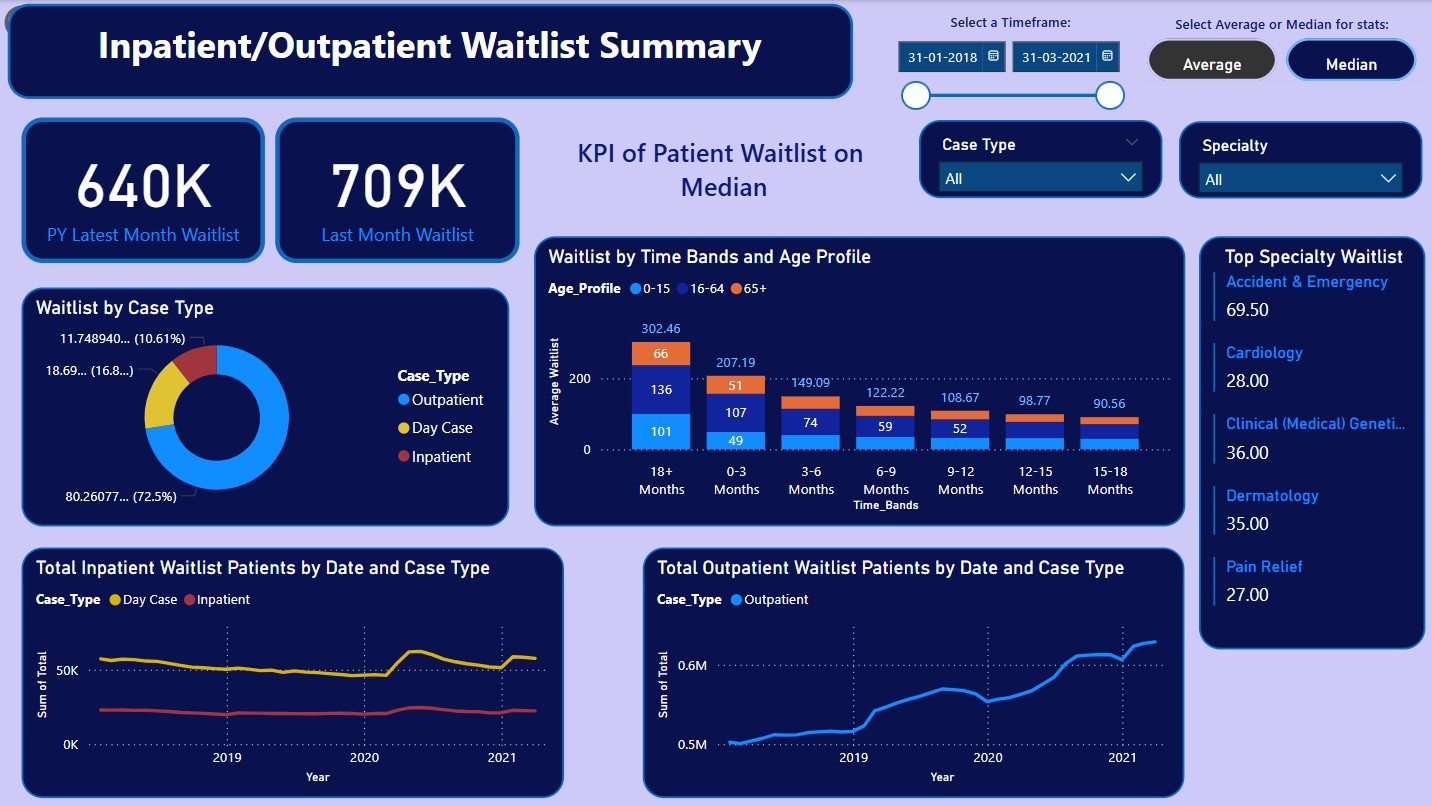

What the dashboard file says about the page in this screenshot:
{"tool":"powerbi","page":{"name":"Inpatient/Outpatient Waitlist Summary","canvas":[1280,720],"ordinal":0},"visuals":[{"type":"actionButton","box":[0,0,100,40],"z":0},{"type":"columnChart","title":"Waitlist by Time Bands and Age Profile","fields":{"Y":["All_Data.Average Waitlist"],"Category":["All_Data.Time_Bands"],"Series":["All_Data.Age_Profile"]},"box":[476.4,210.2,579.7,258.7],"z":1000},{"type":"card","fields":{"Values":["All_Data.Last Month Waitlist"]},"box":[246.3,104.5,217.7,129.4],"z":2000},{"type":"card","fields":{"Values":["All_Data.PY Latest Month Waitlist"]},"box":[19.9,104.5,216.4,129.4],"z":3000},{"type":"donutChart","title":"Waitlist by Case Type","fields":{"Category":["All_Data.Case_Type"],"Y":["All_Data.Average Waitlist"]},"box":[19.9,256.3,434.1,212.7],"z":4000},{"type":"advancedSlicerVisual","title":"Select Average or Median for stats:","fields":{"Values":["Calculation Method.Type"]},"box":[1017.6,13.7,250,64.7],"z":5000},{"type":"lineChart","title":"Total Outpatient Waitlist Patients by Date and Case Type","fields":{"Y":["Sum(All_Data.Total)"],"Category":["All_Data.Archive_Date.Variation.Date Hierarchy.Year","All_Data.Archive_Date.Variation.Date Hierarchy.Quarter","All_Data.Archive_Date.Variation.Date Hierarchy.Month","All_Data.Archive_Date.Variation.Date Hierarchy.Day"],"Series":["All_Data.Case_Type"]},"box":[573.7,488,482.4,223.2],"z":6000},{"type":"lineChart","title":"Total Inpatient Waitlist Patients by Date and Case Type","fields":{"Y":["Sum(All_Data.Total)"],"Category":["All_Data.Archive_Date.Variation.Date Hierarchy.Year","All_Data.Archive_Date.Variation.Date Hierarchy.Quarter","All_Data.Archive_Date.Variation.Date Hierarchy.Month","All_Data.Archive_Date.Variation.Date Hierarchy.Day"],"Series":["All_Data.Case_Type"]},"box":[20.3,488,483.5,223.2],"z":7000},{"type":"multiRowCard","title":"Top  Specialty Waitlist","fields":{"Values":["All_Data.Specialty","All_Data.Avg/Med Waitlist"]},"box":[1066.4,197,201.5,368.5],"z":8000},{"type":"slicer","fields":{"Values":["All_Data.Case_Type"]},"box":[819.8,107,216.4,69.7],"z":9000},{"type":"slicer","fields":{"Values":["All_Data.Specialty"]},"box":[1051.1,108.2,216.4,68.4],"z":10000},{"type":"textbox","box":[7.8,3.3,752.5,84.6],"z":11000},{"type":"slicer","title":"Select a Timeframe:","fields":{"Values":["All_Data.Archive_Date"]},"box":[780,3.7,237.6,103.2],"z":12000},{"type":"card","fields":{"Values":["All_Data.Stats_Message"]},"box":[476.4,99.5,338.4,98.3],"z":13000}]}

Visuals, with their boxes in screenshot pixels (x1, y1, x2, y2), scaled from the page's 1280x720 canvas onto the 1432x806 screenshot:
actionButton: (0, 0, 112, 45)
"Waitlist by Time Bands and Age Profile" columnChart: (533, 235, 1182, 525)
card - All_Data.Last Month Waitlist: (276, 117, 519, 262)
card - All_Data.PY Latest Month Waitlist: (22, 117, 264, 262)
"Waitlist by Case Type" donutChart: (22, 287, 508, 525)
"Select Average or Median for stats:" advancedSlicerVisual: (1138, 15, 1418, 88)
"Total Outpatient Waitlist Patients by Date and Case Type" lineChart: (642, 546, 1182, 796)
"Total Inpatient Waitlist Patients by Date and Case Type" lineChart: (23, 546, 564, 796)
"Top  Specialty Waitlist" multiRowCard: (1193, 221, 1418, 633)
slicer - All_Data.Case_Type: (917, 120, 1159, 198)
slicer - All_Data.Specialty: (1176, 121, 1418, 198)
textbox: (9, 4, 851, 98)
"Select a Timeframe:" slicer: (873, 4, 1138, 120)
card - All_Data.Stats_Message: (533, 111, 912, 221)
